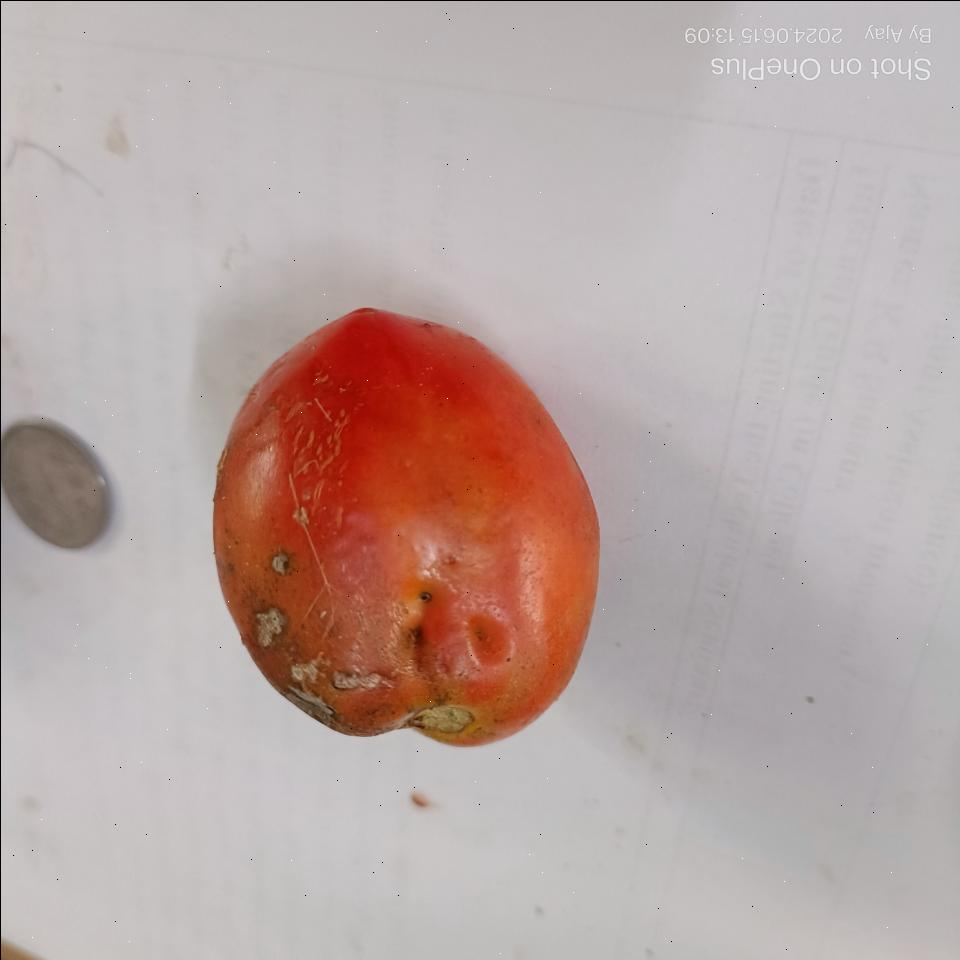Bacterial_Spot: (240, 552, 387, 731)
